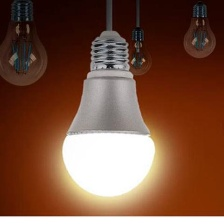light_bulb: (55, 26, 160, 199), (0, 0, 52, 88), (177, 2, 220, 60), (116, 23, 154, 78)
